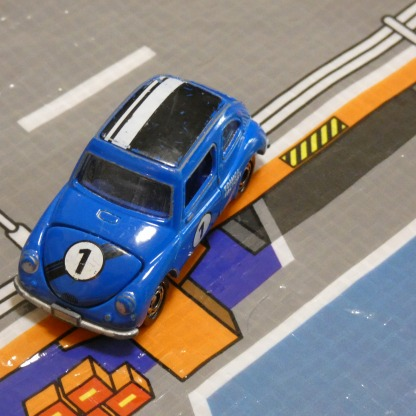car: (12, 74, 269, 338)
